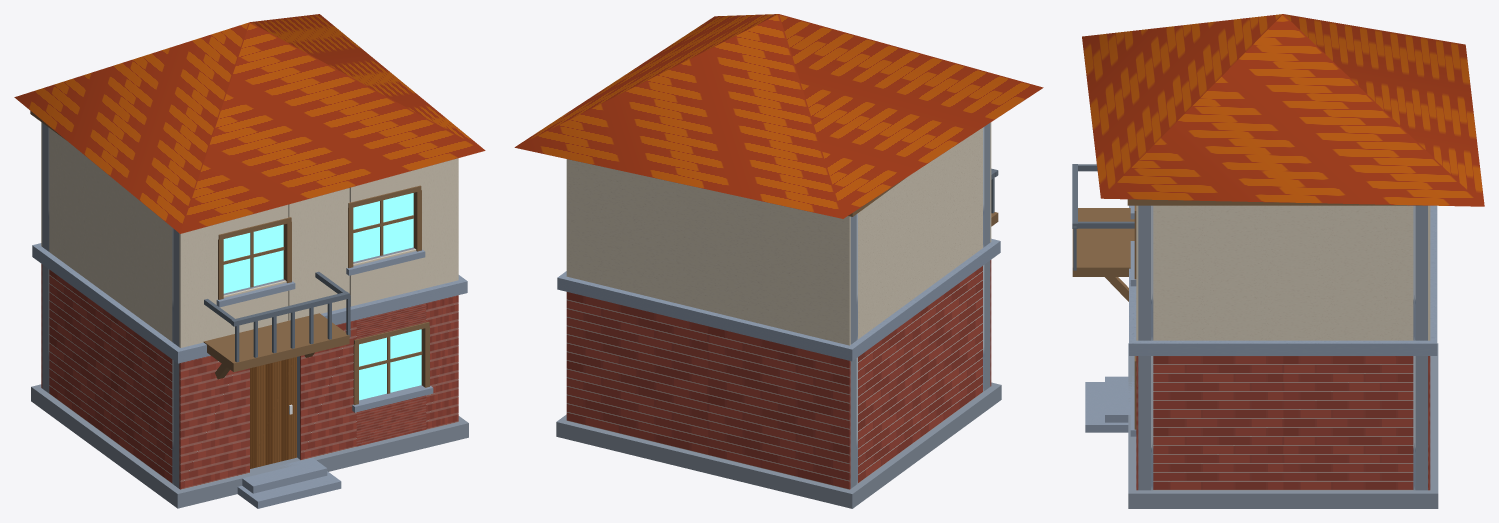
The model's file is house_two_story_enterable.glb.
The picture shows the model from 3 angles, left to right: view 1: azimuth 30°, elevation 25°; view 2: azimuth 150°, elevation 25°; view 3: azimuth 270°, elevation 25°; orthographic projection. The views are drawn at different scales.
Visible parts, largest first — view 1: house_two_story_enterable, door_front_pivot; view 2: house_two_story_enterable; view 3: house_two_story_enterable.
Part boxes in pixels (x1,y1,x2,y2): house_two_story_enterable: (14,14,485,508); door_front_pivot: (250,357,296,468); house_two_story_enterable: (514,14,1043,508); house_two_story_enterable: (1072,14,1484,508).
Bounding box in the file's own units: 7.12 × 8.19 × 7.29.
11 materials, 6 textured.
